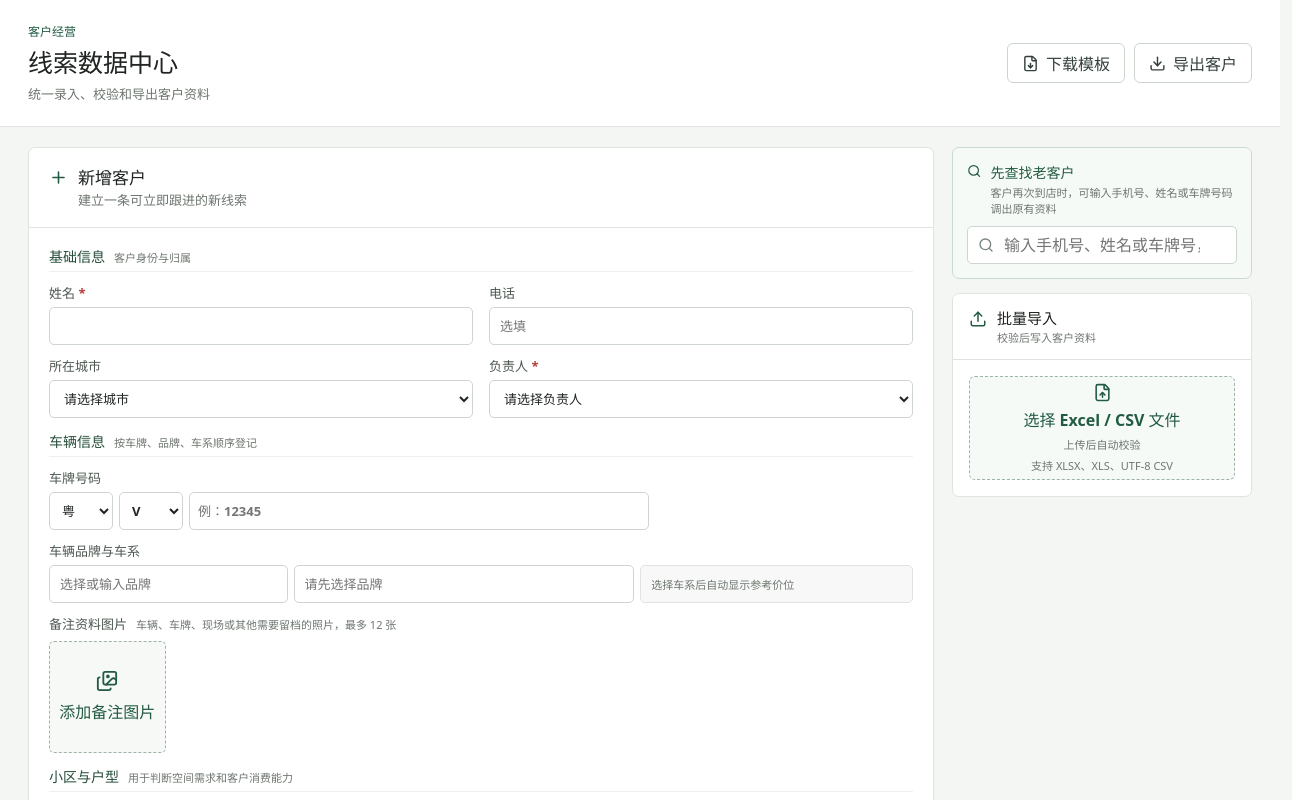
Test: LeadsPage customer intake › finds returning customers by license plate and stores the plate on new records
Later steps or results of the test are not shown.
Step 1. Type "粤v12345" into the field named "查找老客户" → (1102, 245), box 967,226 -> 1237,264
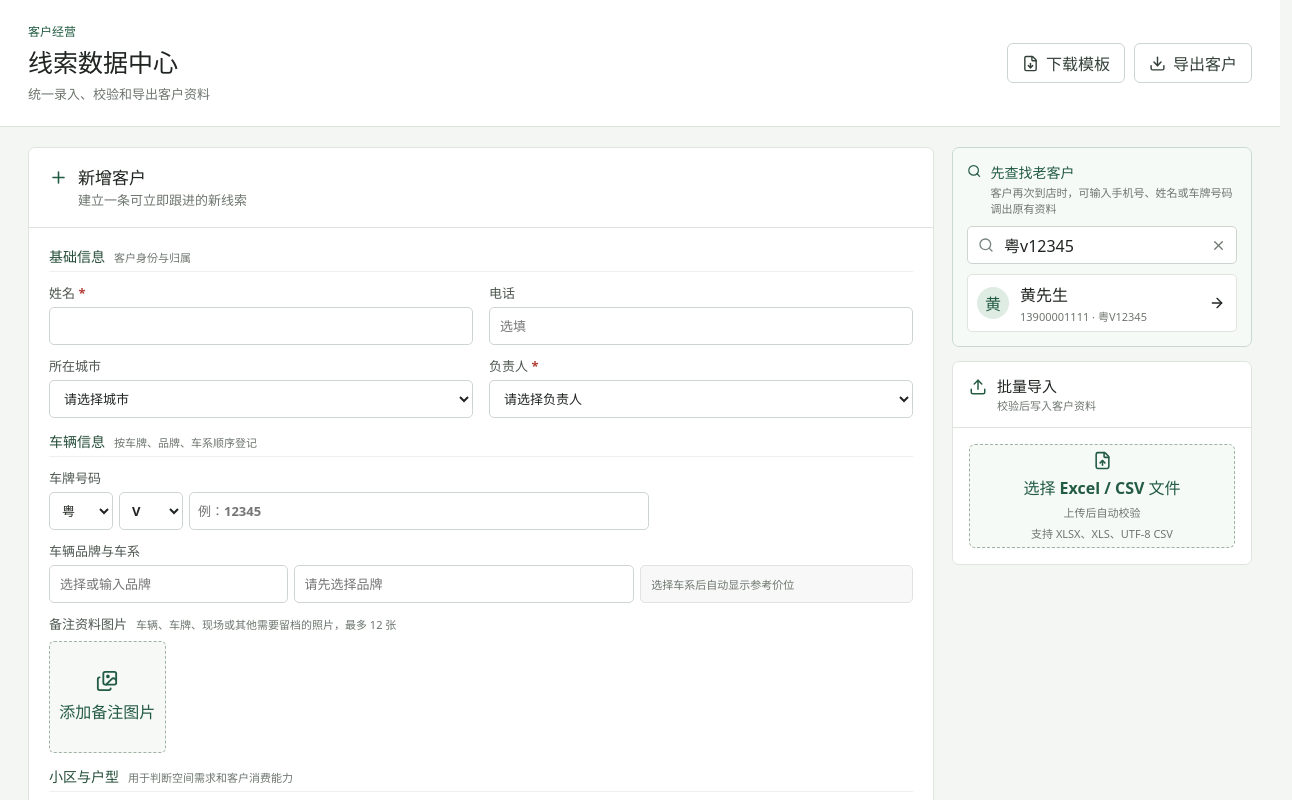
Expected: the text "黄先生" is shown, 1020,284 -> 1068,306
Expected: the text "13900001111 · 粤V12345" is shown, 1020,309 -> 1147,324
